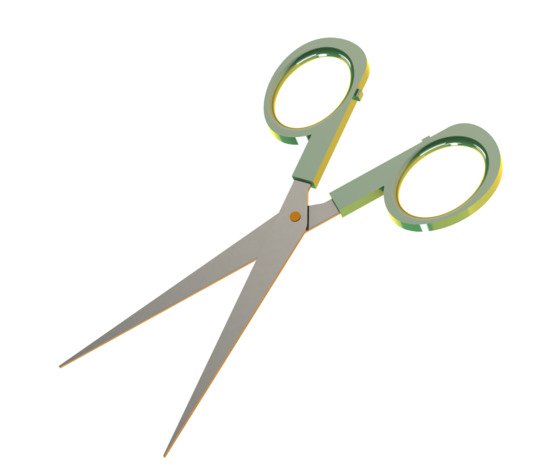scissors: (53, 33, 503, 441)
